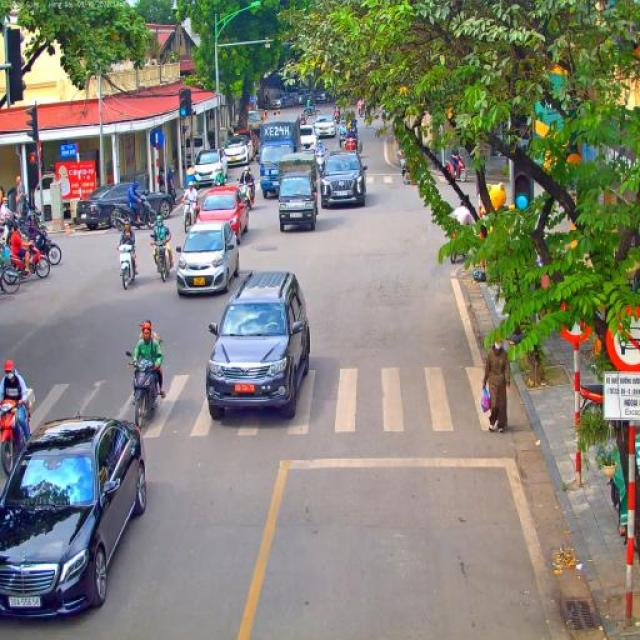bus: (495, 46, 640, 226)
car: (0, 414, 149, 622), (205, 268, 311, 422), (174, 220, 240, 298), (75, 181, 174, 230), (194, 185, 250, 245), (320, 150, 368, 208), (193, 149, 228, 190), (221, 136, 251, 172), (298, 124, 318, 157), (233, 130, 254, 160), (312, 112, 336, 138), (246, 110, 265, 141), (290, 88, 312, 106), (274, 92, 295, 109), (268, 94, 281, 110), (314, 93, 328, 107)
motorcycle: (0, 387, 31, 479), (125, 350, 160, 430), (2, 240, 50, 280), (26, 222, 63, 266), (111, 198, 158, 232), (575, 382, 604, 428), (0, 238, 20, 294), (115, 240, 136, 290), (150, 237, 170, 283), (450, 230, 470, 264), (182, 196, 199, 234), (0, 211, 18, 245), (448, 152, 468, 182), (237, 181, 255, 210), (401, 152, 413, 184), (314, 152, 327, 176), (301, 104, 317, 118), (344, 134, 357, 151), (333, 108, 342, 126), (339, 132, 347, 148), (212, 182, 224, 188), (358, 108, 363, 118)
truck: (257, 115, 302, 199), (278, 152, 320, 232)
